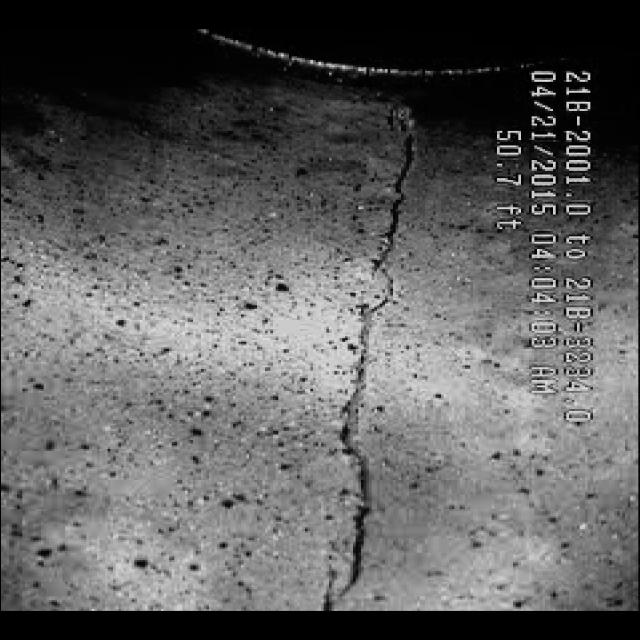Crack: (318, 168, 442, 552)
